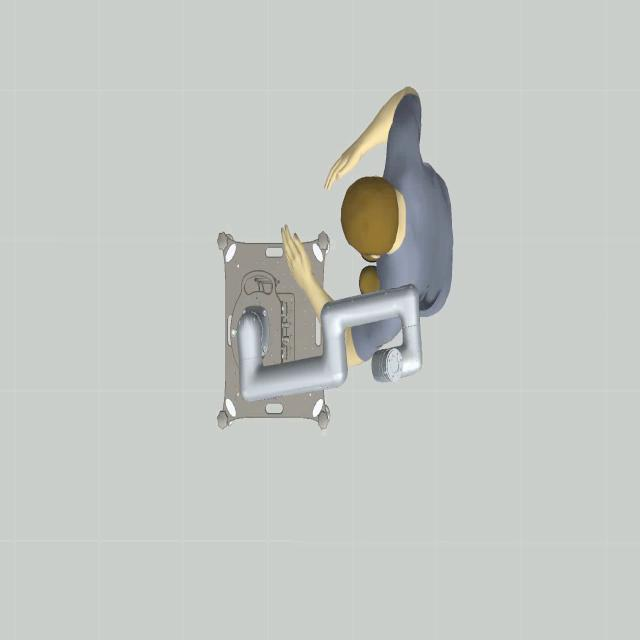human: (276, 52, 456, 379)
robot: (235, 265, 432, 411)
